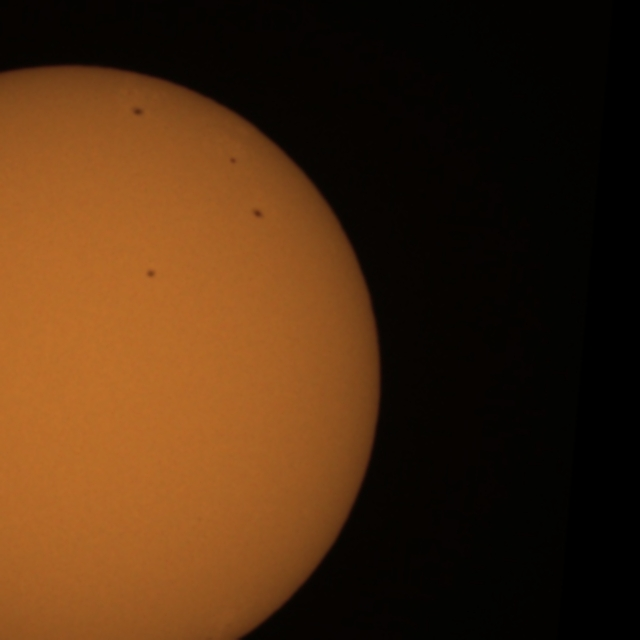sunspot: (130, 105, 146, 119), (251, 207, 266, 221), (144, 268, 158, 280), (228, 156, 238, 166)
